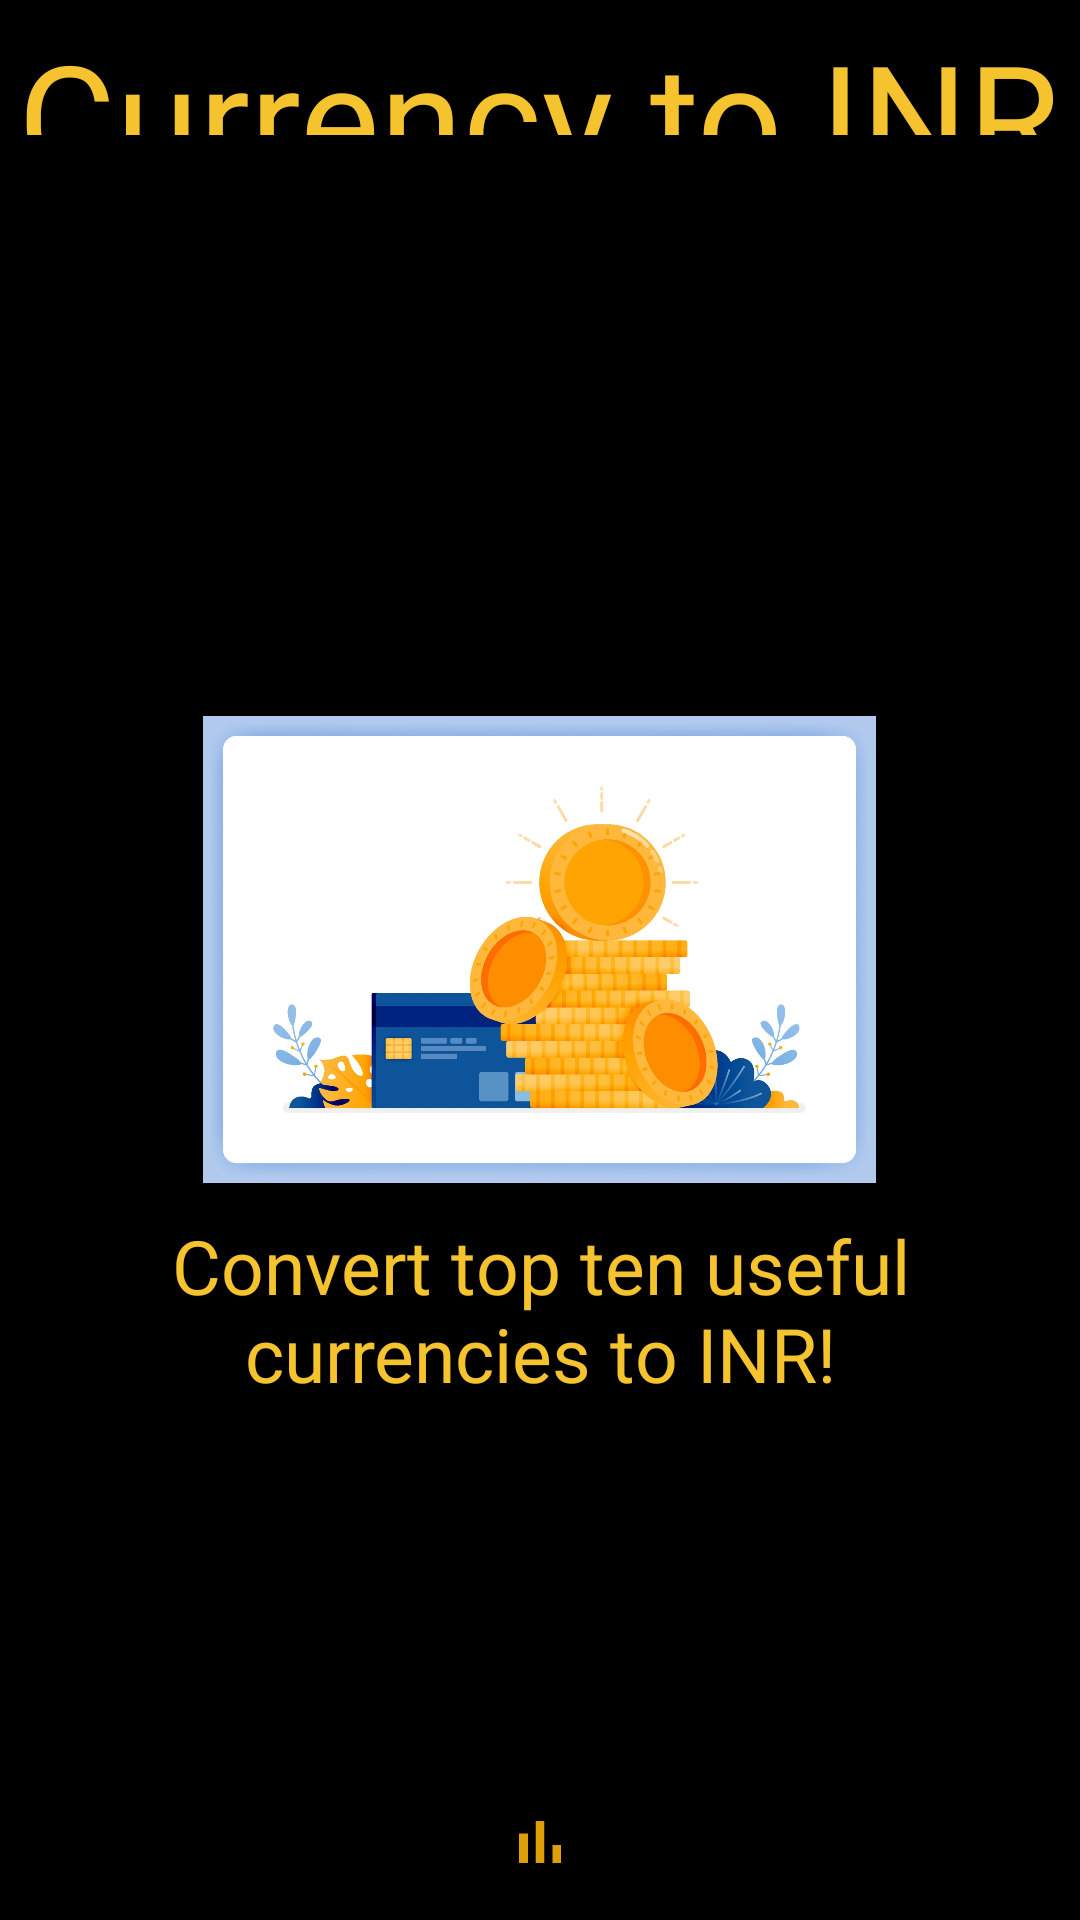

Named icons in this screenshot (1080*1920) and their centers, (x,y):
bar chart: (540,1842)
